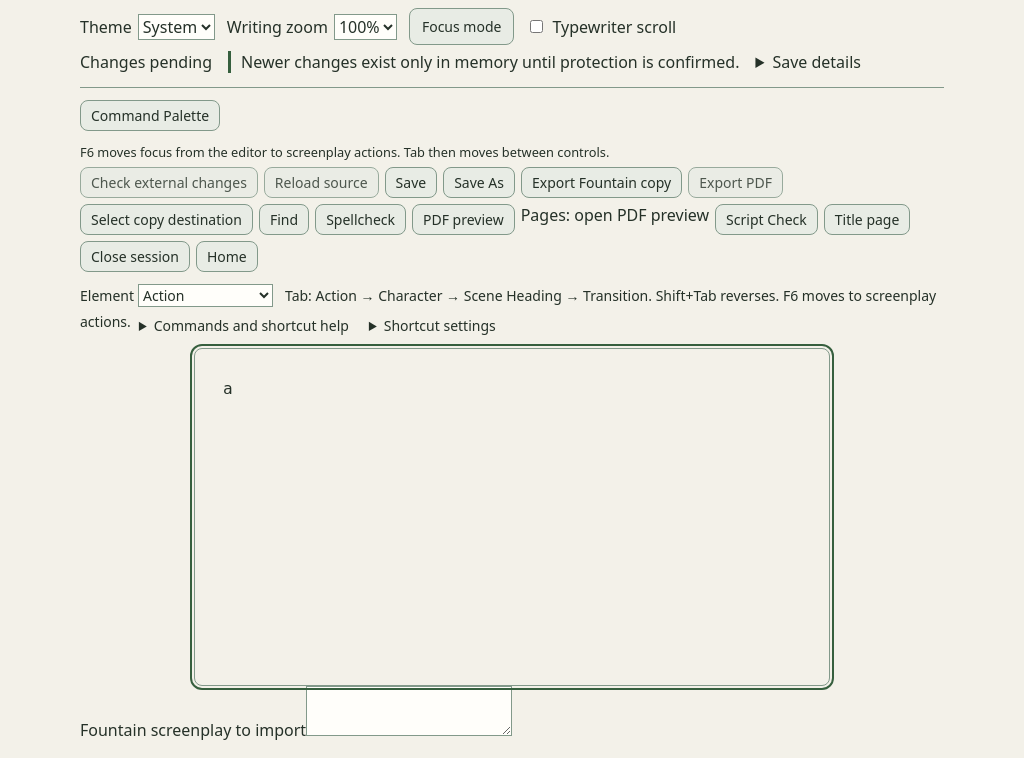
Scenario: returns deferred preview focus unless the writer chooses newer focus (false)
Click the button "PDF preview": (463, 220) [412,204,515,235]
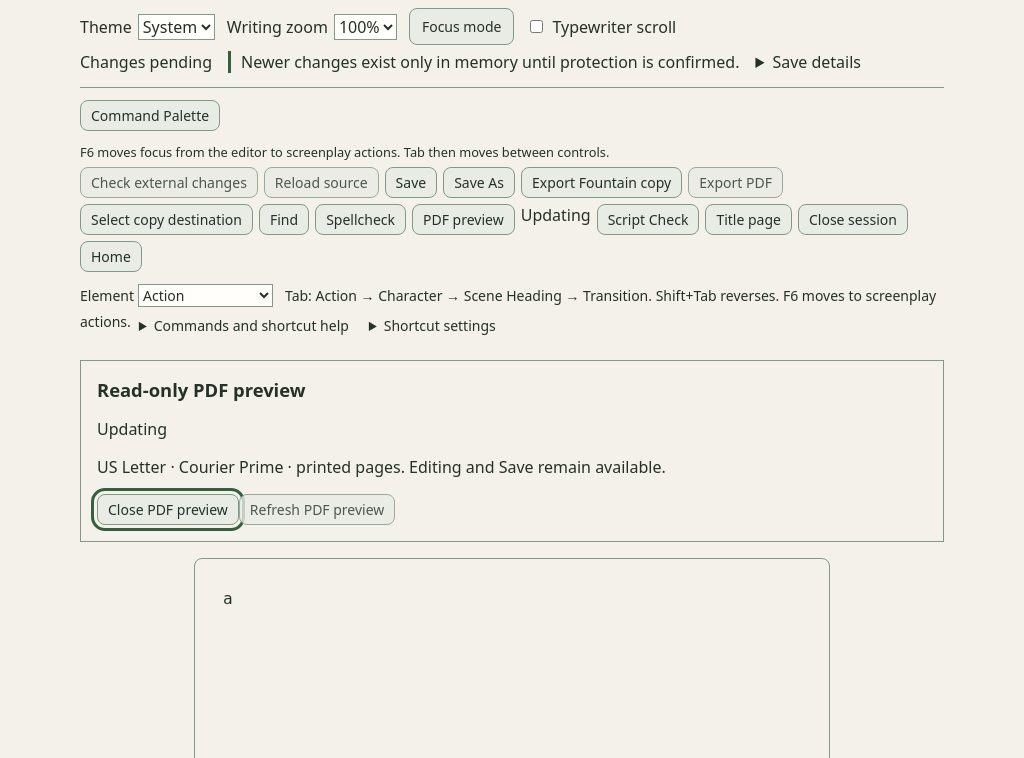
Click the button "Save": (411, 182) [385,167,437,198]
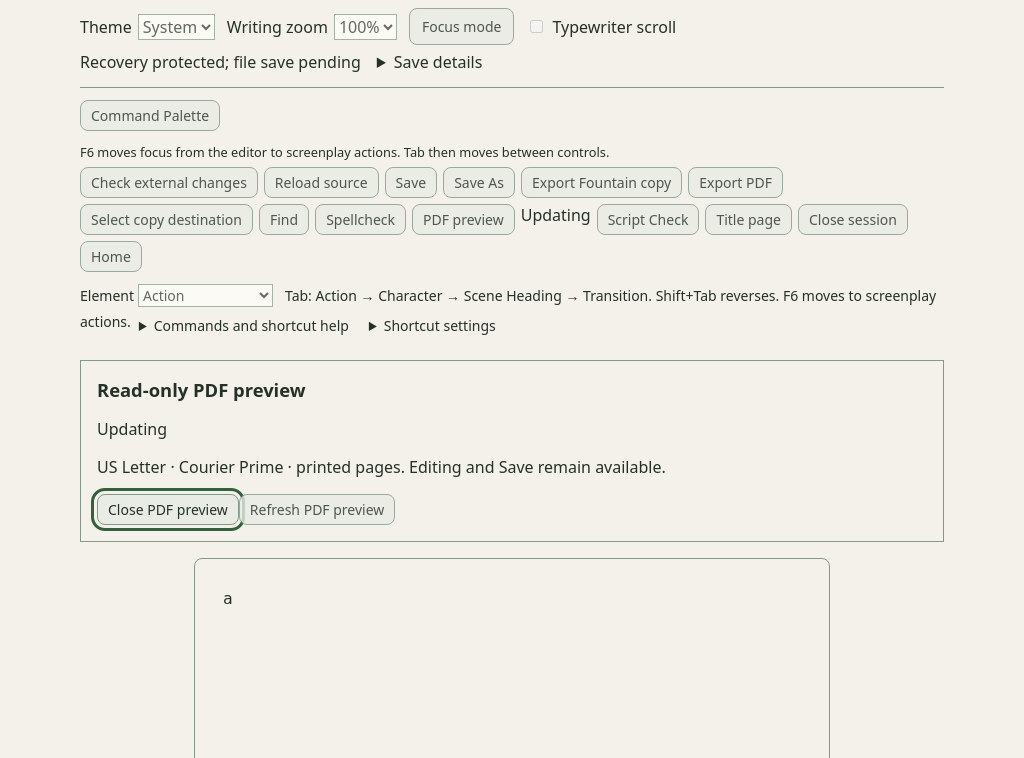
expect the button "PDF preview" is disabled: met, box [412,204,515,235]
Click the button "Close PDF preview": (168, 510) [97,494,239,525]
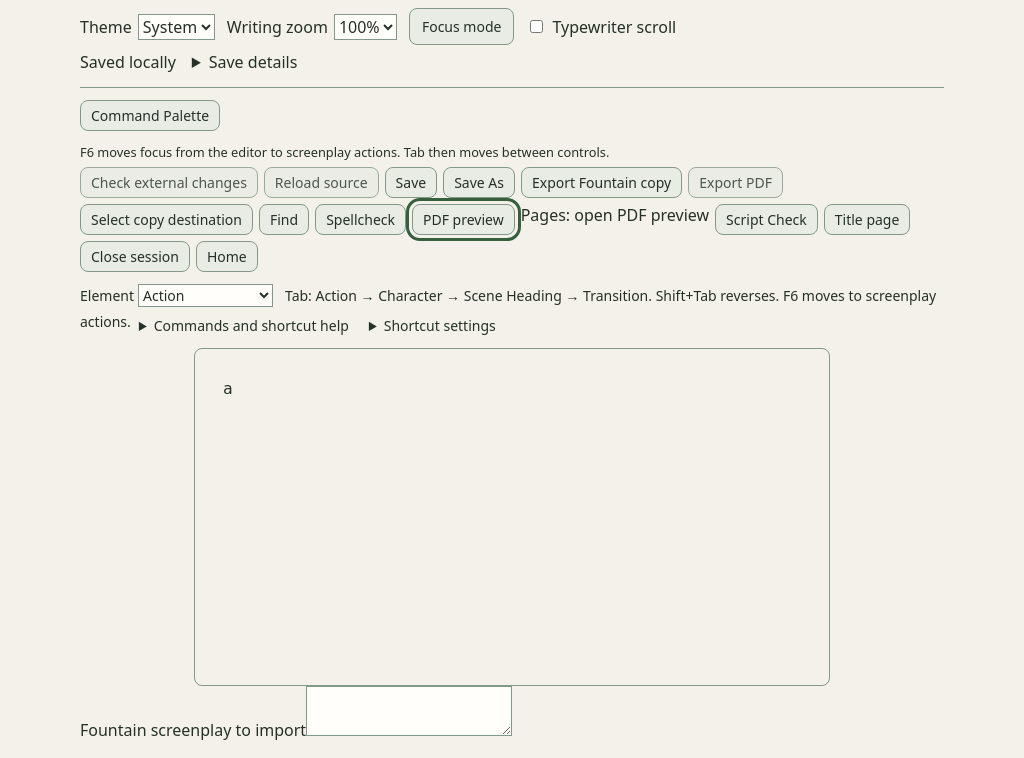
expect the button "Close PDF preview" is gone: met
expect the button "PDF preview" is enabled: met, box [412,204,515,235]
